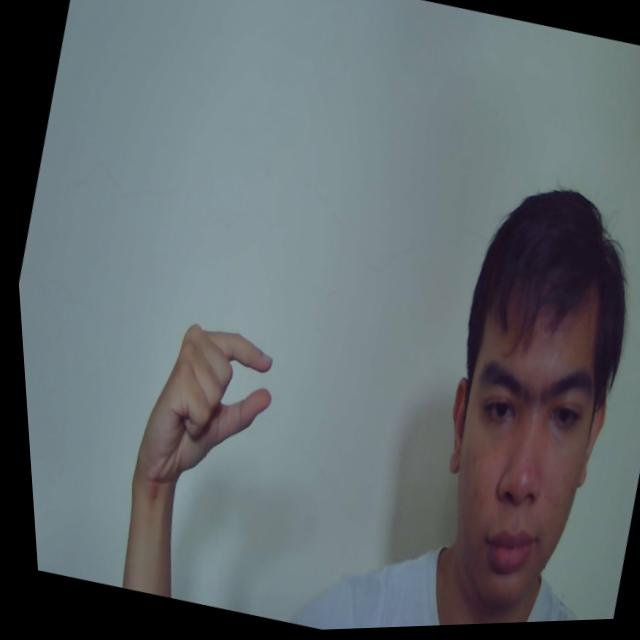G: (118, 311, 289, 505)
